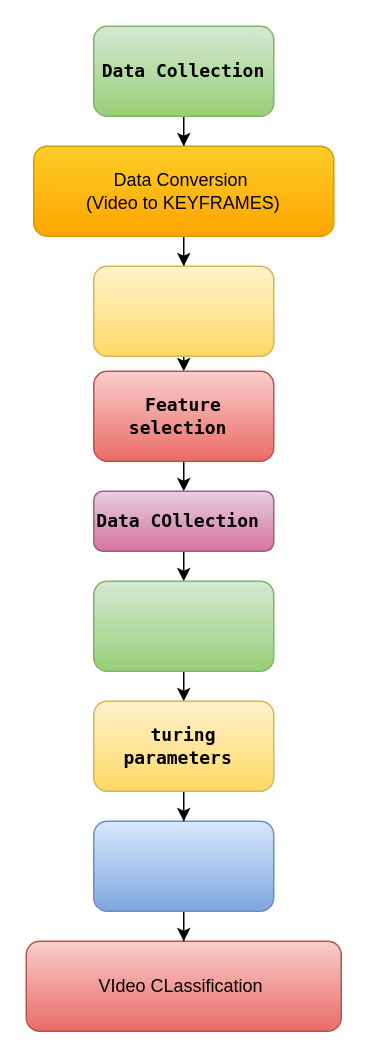
This 368x1058 diagram has some shape labels left out. Here are the shapes that lost their labels. From the top down, the box of each, then its label:
(92, 265, 274, 356): Preprocessing of the Video Data
(92, 580, 274, 671): execute the process
(92, 820, 274, 911): video features matching
